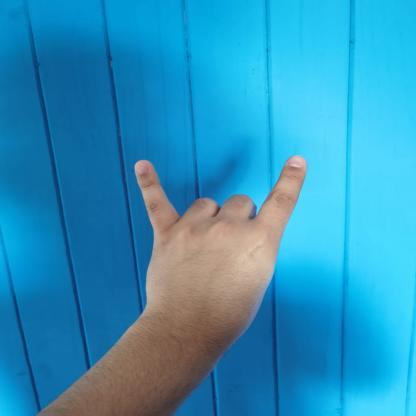U: (131, 154, 308, 330)
